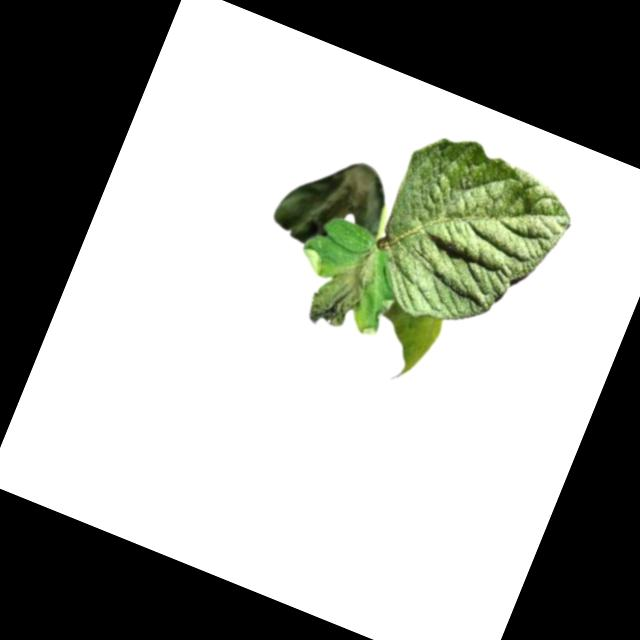Late_blight: (267, 137, 400, 268), (302, 232, 391, 341), (358, 298, 446, 391)
healthy: (354, 120, 589, 359)
